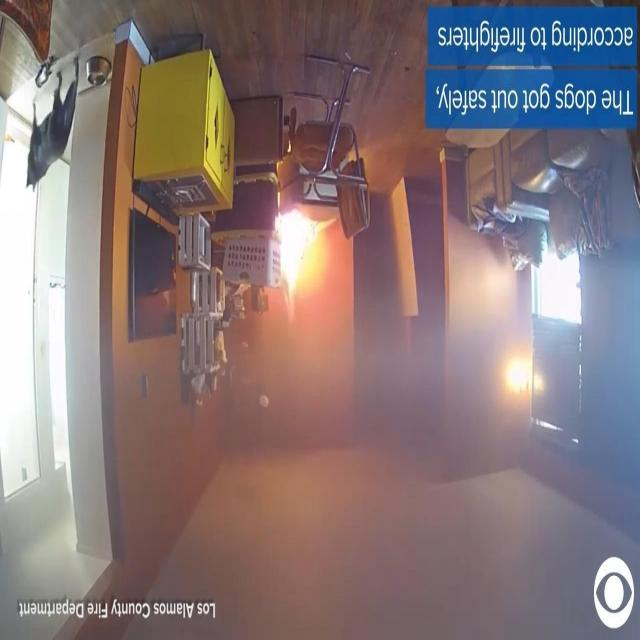fire: (274, 192, 332, 309)
